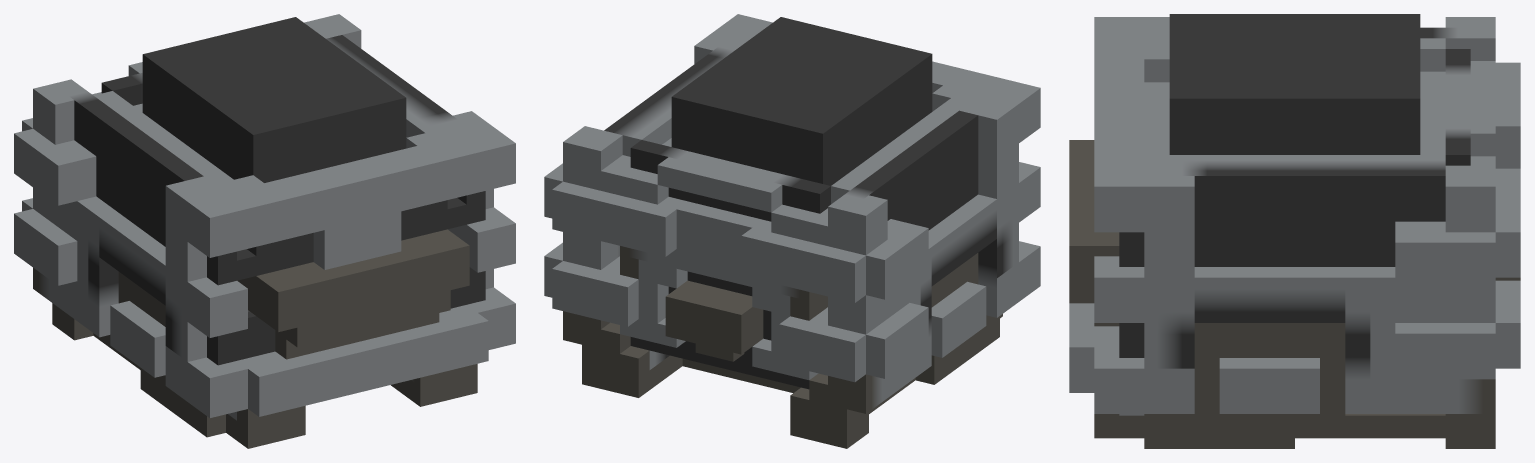
Rendered from Body9.fbx.
3 views of the same model, side by side, from view 1: azimuth 30°, elevation 25°; view 2: azimuth 150°, elevation 25°; view 3: azimuth 270°, elevation 25° (orthographic). The views are drawn at different scales.
Parts seen in each view (by area): view 1: Body9; view 2: Body9; view 3: Body9.
Boxes of the visible parts, x1,y1,x2,y2 form: Body9: (14,14,515,448); Body9: (544,14,1040,448); Body9: (1069,14,1520,448).
Bounding box in the file's own units: 90 × 70 × 90.
